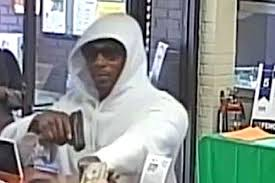gun: (40, 108, 95, 154)
